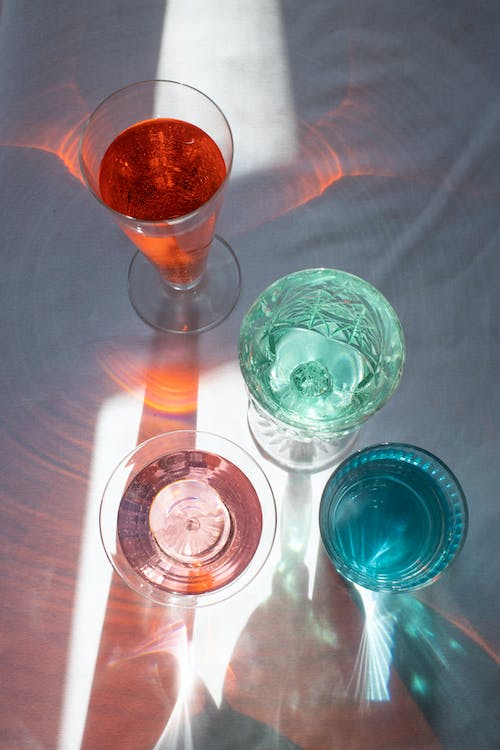alcohol: (77, 77, 243, 336), (235, 267, 407, 472), (98, 430, 279, 609), (316, 441, 469, 597)
